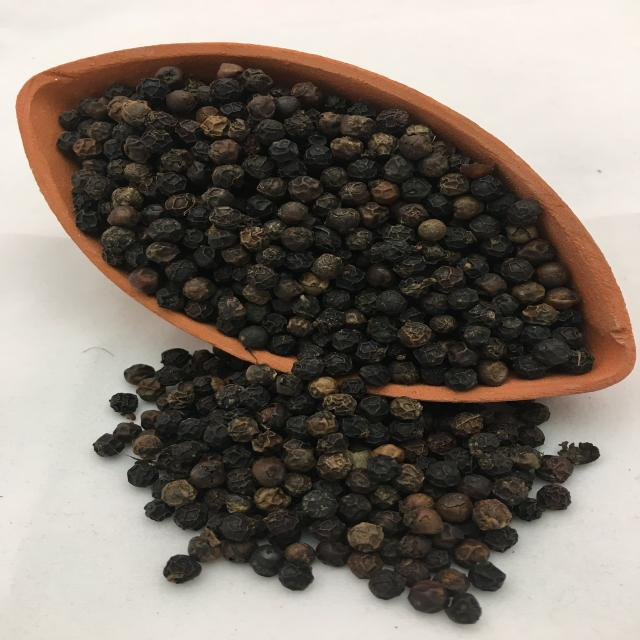Black pepper: (43, 60, 612, 631)
